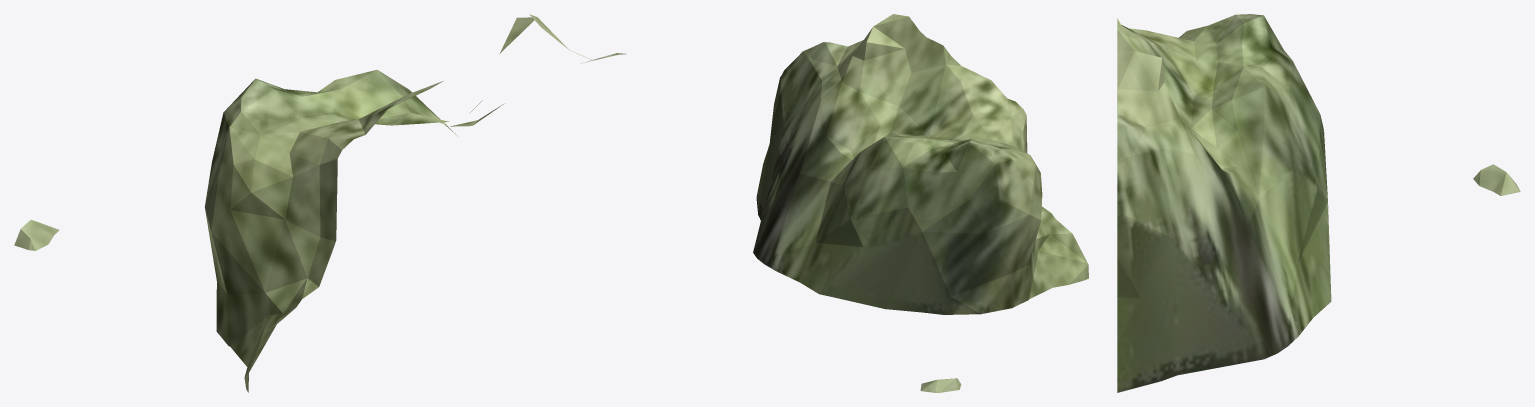
3 views of the same model, side by side, from view 1: azimuth 30°, elevation 25°; view 2: azimuth 150°, elevation 25°; view 3: azimuth 270°, elevation 25° (orthographic). The views are drawn at different scales.
Size of the model in its own units: 3.13 by 1.87 by 2.44.
1 material, 1 textured.
